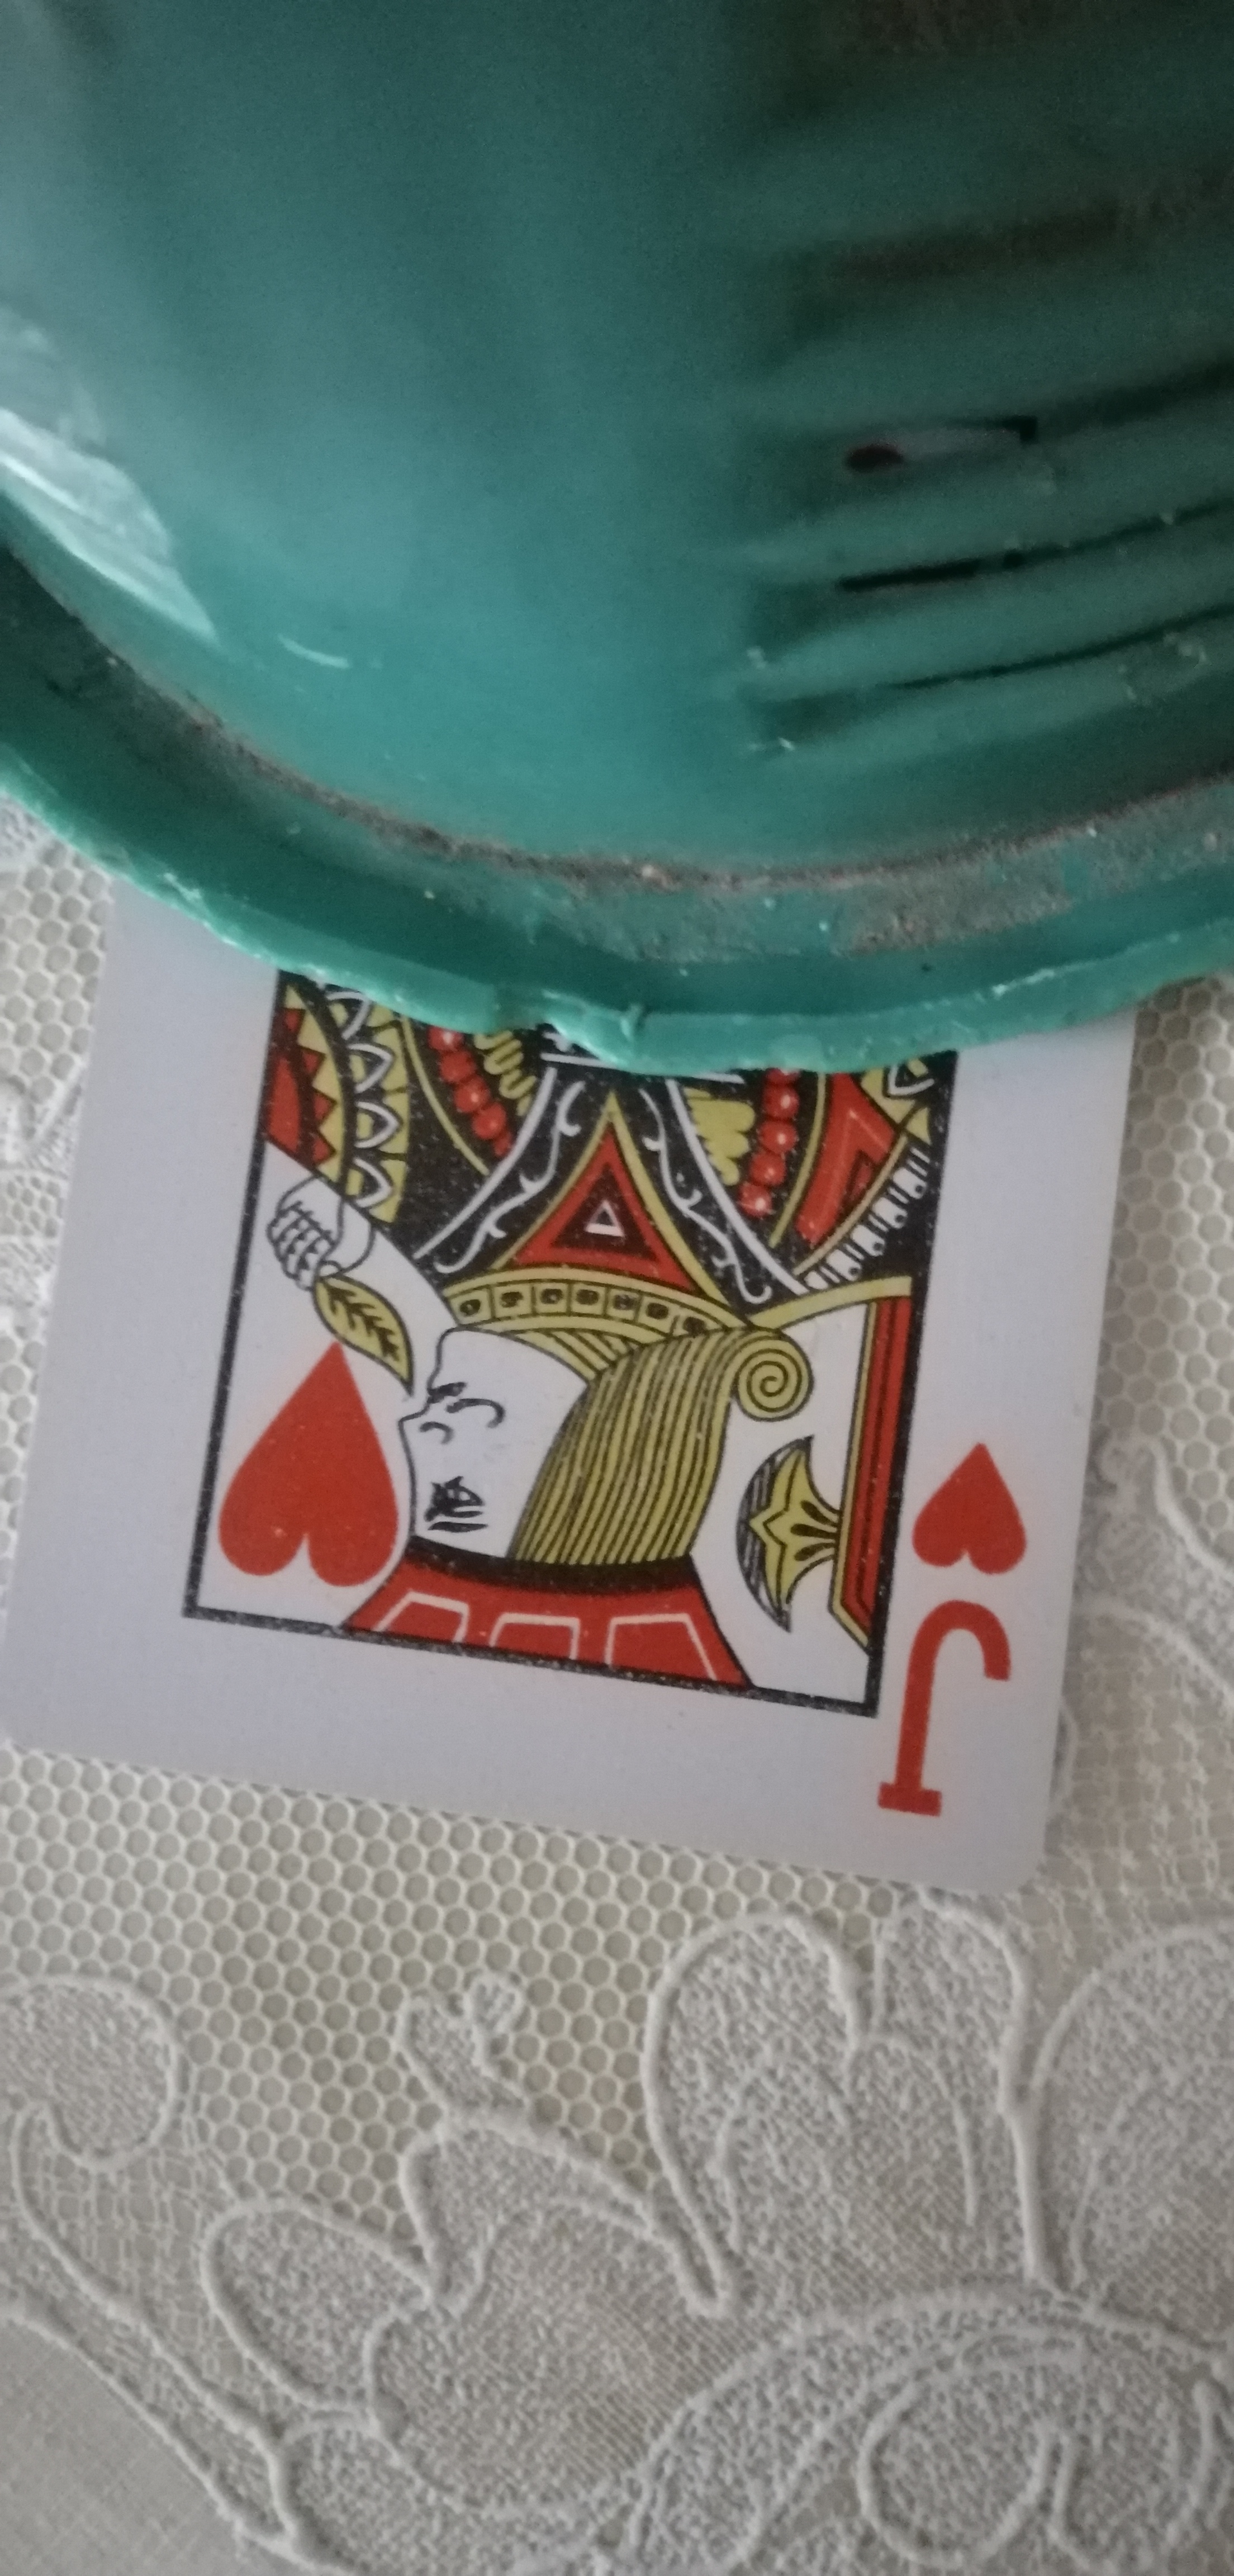jack: (30, 890, 1147, 1917)
